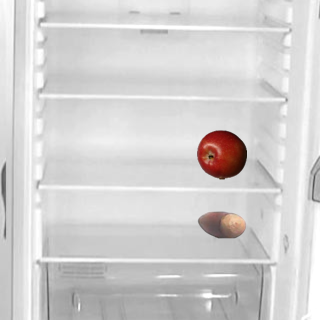Apple Braeburn: (196, 129, 246, 179)
Hazelnut: (196, 199, 246, 249)
